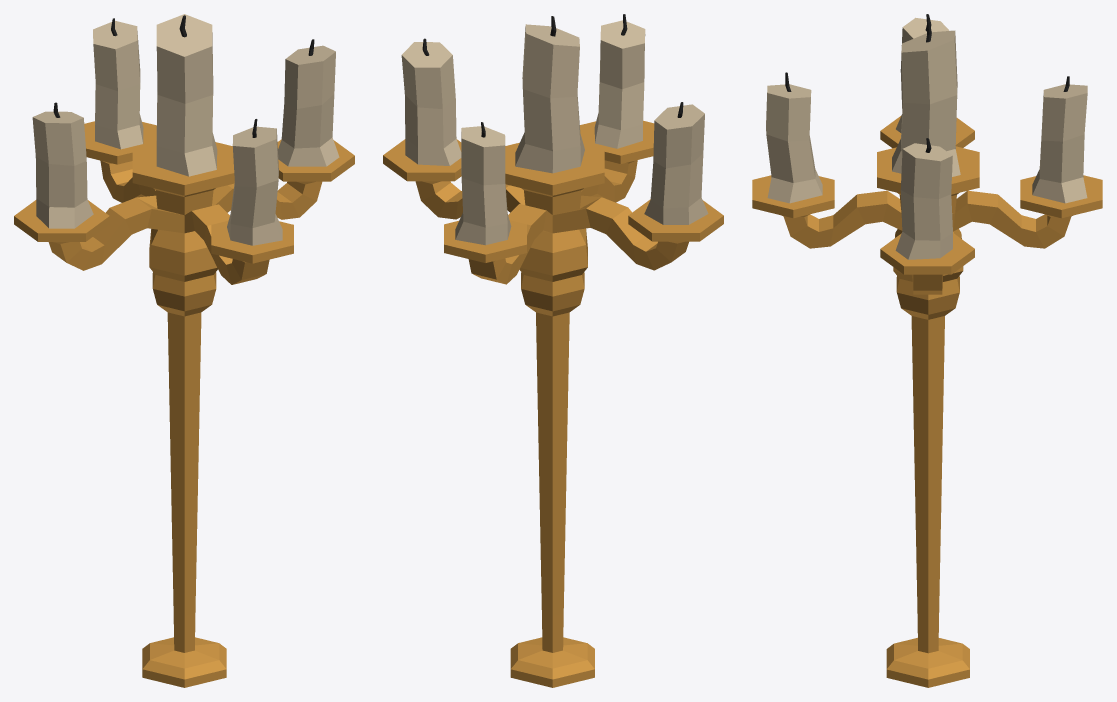
Rendered from Candelabrum_tall.glb.
3 renders of one model, left to right at view 1: azimuth 30°, elevation 25°; view 2: azimuth 150°, elevation 25°; view 3: azimuth 270°, elevation 25°, orthographic.
Parts seen in each view (by area): view 1: Candelabrum_tall; view 2: Candelabrum_tall; view 3: Candelabrum_tall.
Part boxes in pixels (x1=…): Candelabrum_tall: x1=14, y1=14, x2=354, y2=687; Candelabrum_tall: x1=383, y1=14, x2=723, y2=687; Candelabrum_tall: x1=752, y1=14, x2=1102, y2=687.
Bounding box in the file's own units: 0.9349 × 1.84 × 0.9028.
